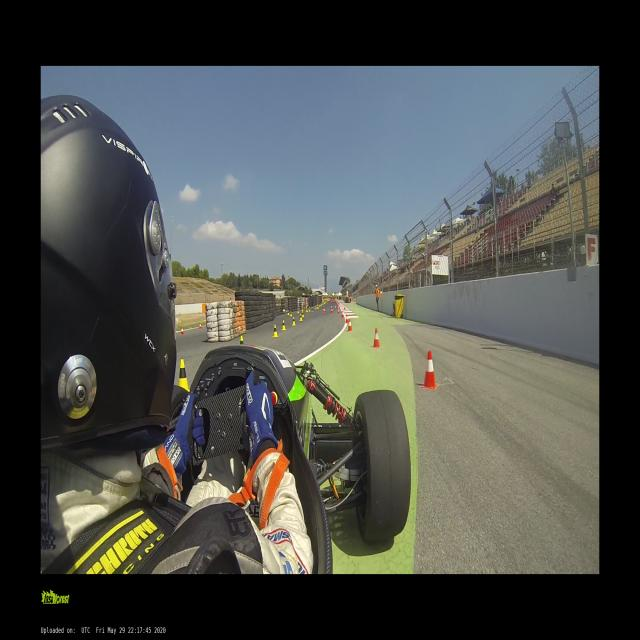orange_cone: (420, 351, 438, 389), (371, 328, 381, 348), (347, 319, 352, 332), (180, 327, 184, 336), (345, 315, 349, 323), (341, 311, 345, 318), (199, 323, 202, 329), (323, 308, 326, 314), (331, 309, 334, 313), (330, 305, 332, 309), (334, 305, 336, 309), (338, 309, 339, 314)
yellow_cone: (180, 359, 189, 393), (272, 324, 278, 337), (281, 320, 286, 330), (292, 316, 296, 326), (240, 336, 244, 345), (299, 313, 303, 321), (302, 312, 304, 318), (287, 311, 290, 315), (290, 312, 292, 316), (297, 309, 299, 313)
